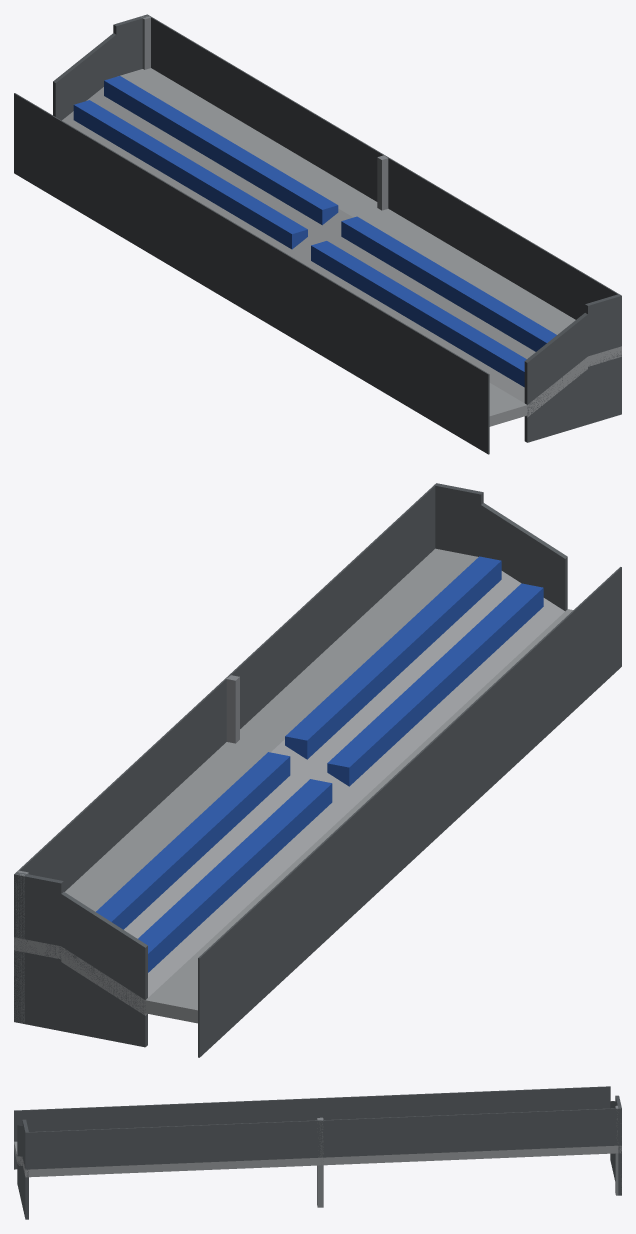
Rendered from mza_stand_trib_p08.glb.
3 renders of one model, top to bottom at view 1: azimuth 30°, elevation 25°; view 2: azimuth 150°, elevation 25°; view 3: azimuth 270°, elevation 25°, orthographic. The views are drawn at different scales.
Parts seen in each view (by area): view 1: monza-trib-p08; view 2: monza-trib-p08; view 3: monza-trib-p08.
Boxes of the visible parts, <box> form: monza-trib-p08: <box>14,14,621,454</box>; monza-trib-p08: <box>14,483,621,1057</box>; monza-trib-p08: <box>14,1086,621,1219</box>.
Bounding box in the file's own units: 5.19 × 2.82 × 17.86.
